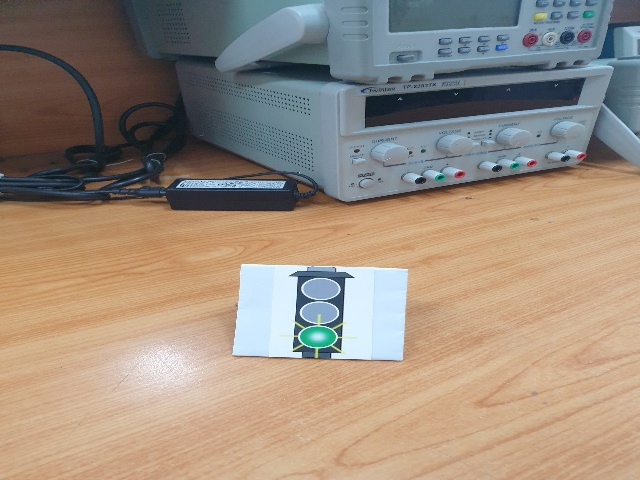Green Light: (276, 267, 352, 361)
